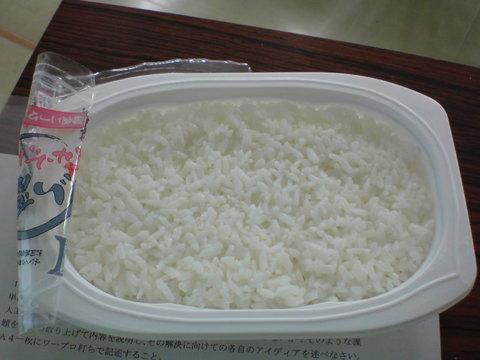rice: (67, 98, 435, 308)
